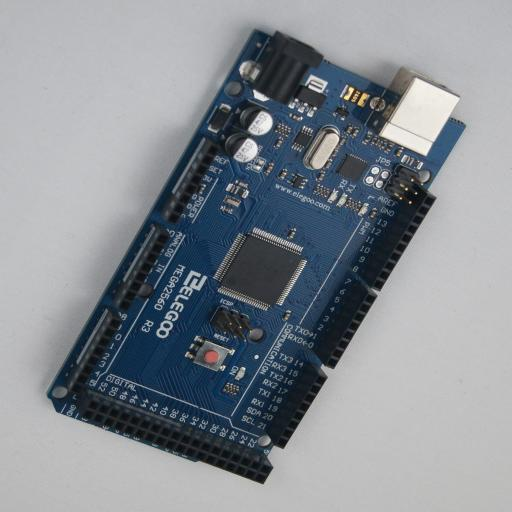Arduino Mega 2560 -Blue-: (46, 29, 466, 484)
